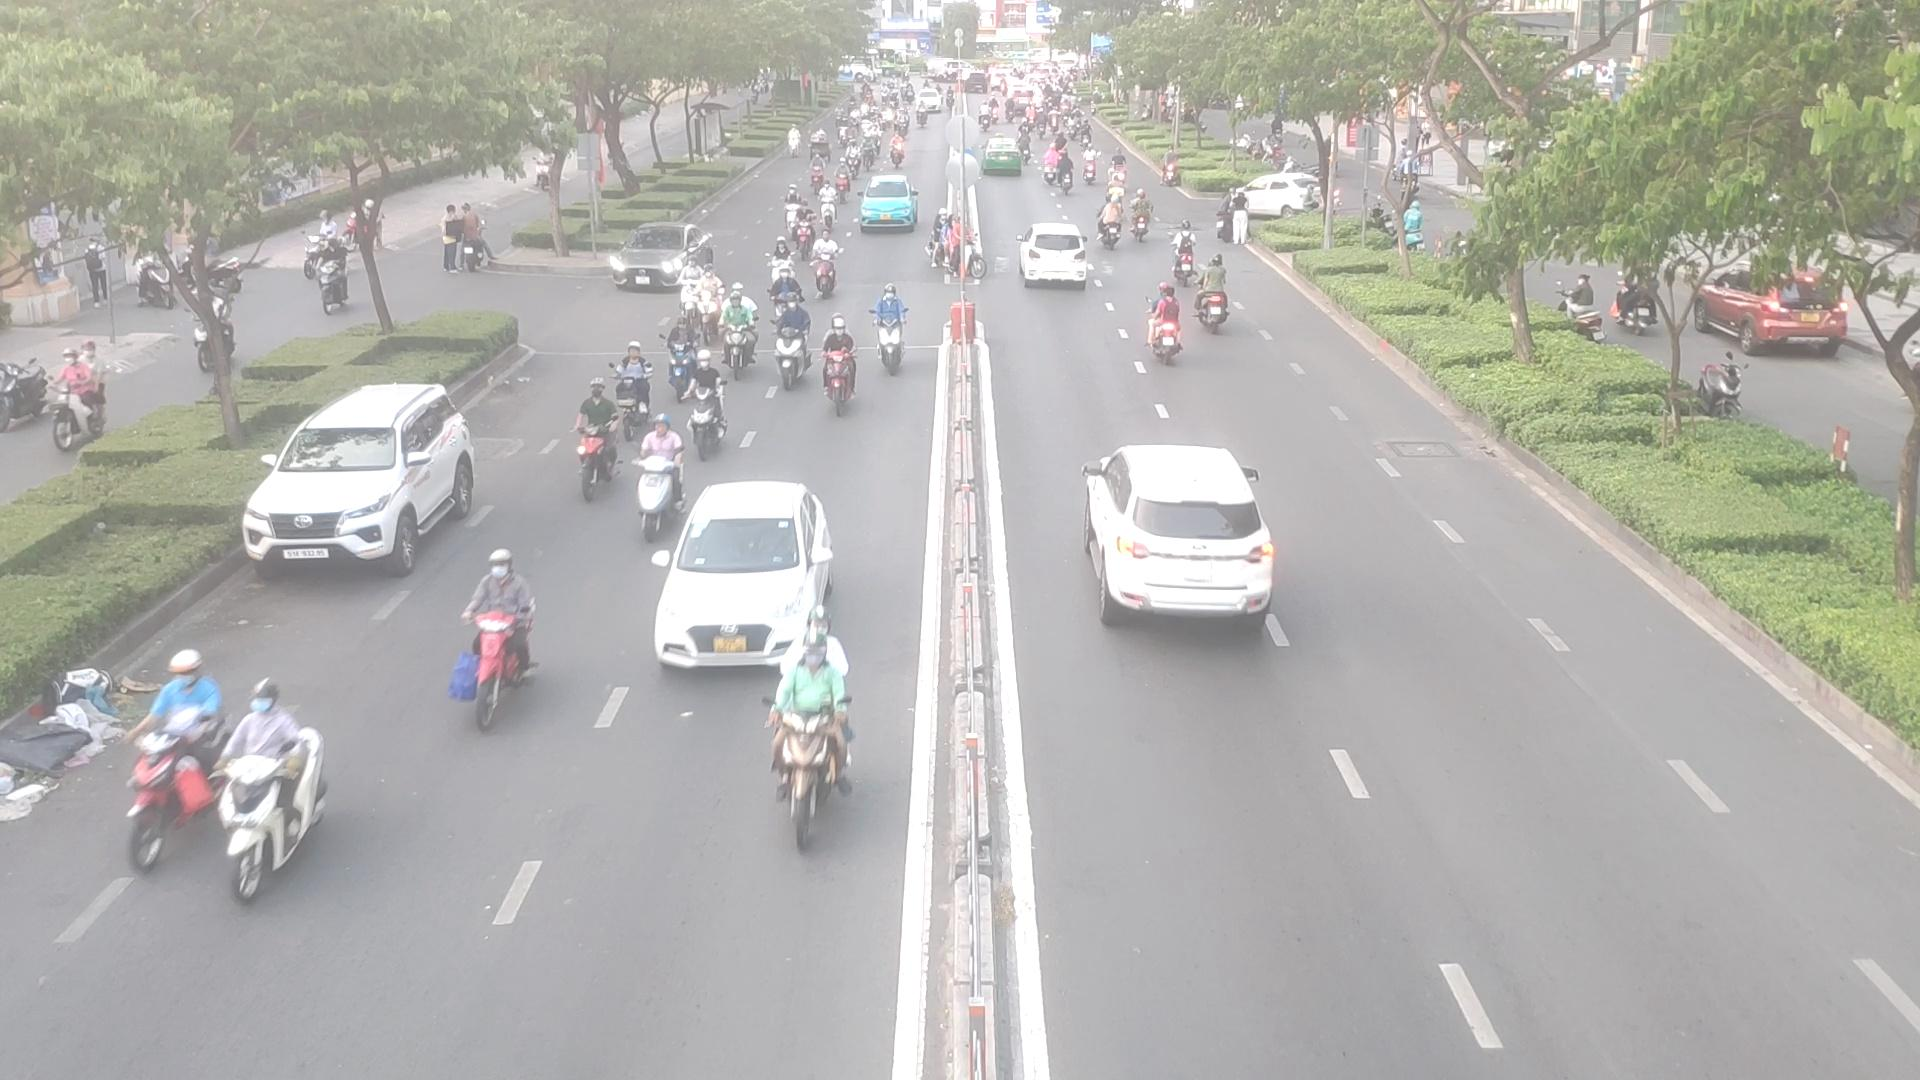car: (243, 382, 491, 576), (1085, 446, 1284, 622), (653, 483, 836, 674), (611, 225, 700, 294), (1021, 225, 1095, 289), (1226, 175, 1323, 220), (860, 181, 923, 232)
motorbike: (219, 669, 363, 920), (100, 651, 235, 872), (778, 621, 853, 847), (455, 605, 541, 735), (624, 414, 687, 542), (560, 375, 615, 512), (767, 287, 825, 396), (862, 278, 910, 376), (827, 306, 862, 434), (713, 282, 760, 378), (607, 349, 655, 440), (684, 345, 723, 452), (655, 313, 700, 392), (700, 264, 738, 342), (1153, 287, 1189, 368), (1201, 256, 1241, 328), (811, 225, 851, 294), (1168, 219, 1199, 280), (771, 247, 807, 294), (670, 258, 695, 323), (1101, 196, 1127, 252), (791, 208, 816, 262), (778, 187, 807, 233), (1122, 194, 1149, 240), (816, 179, 836, 232)
